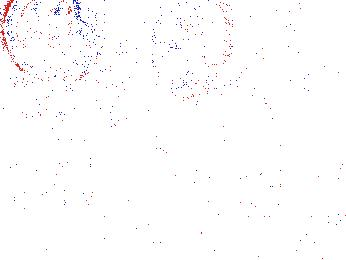moon jellyfish: (151, 1, 231, 101), (1, 1, 82, 82), (218, 87, 283, 171), (298, 68, 346, 150)
